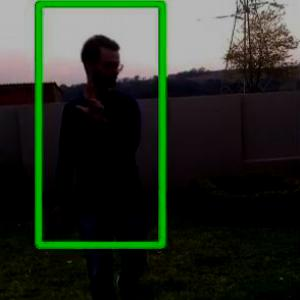land_hand: (77, 80, 113, 130)
